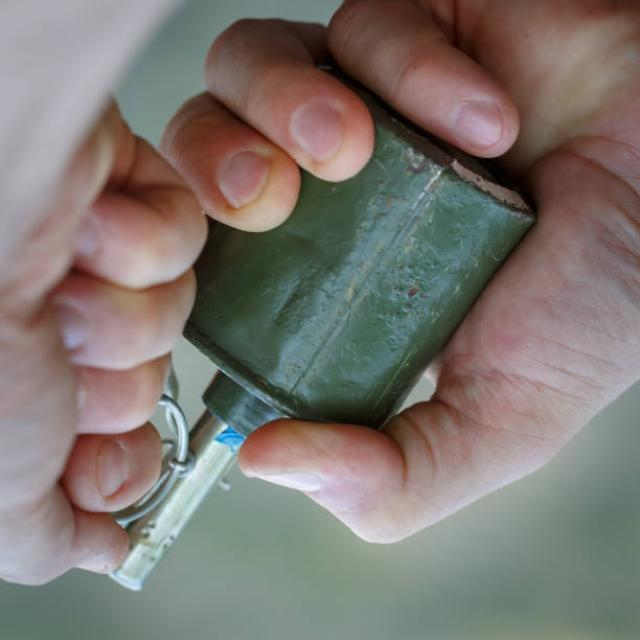grenade: (106, 113, 551, 594)
